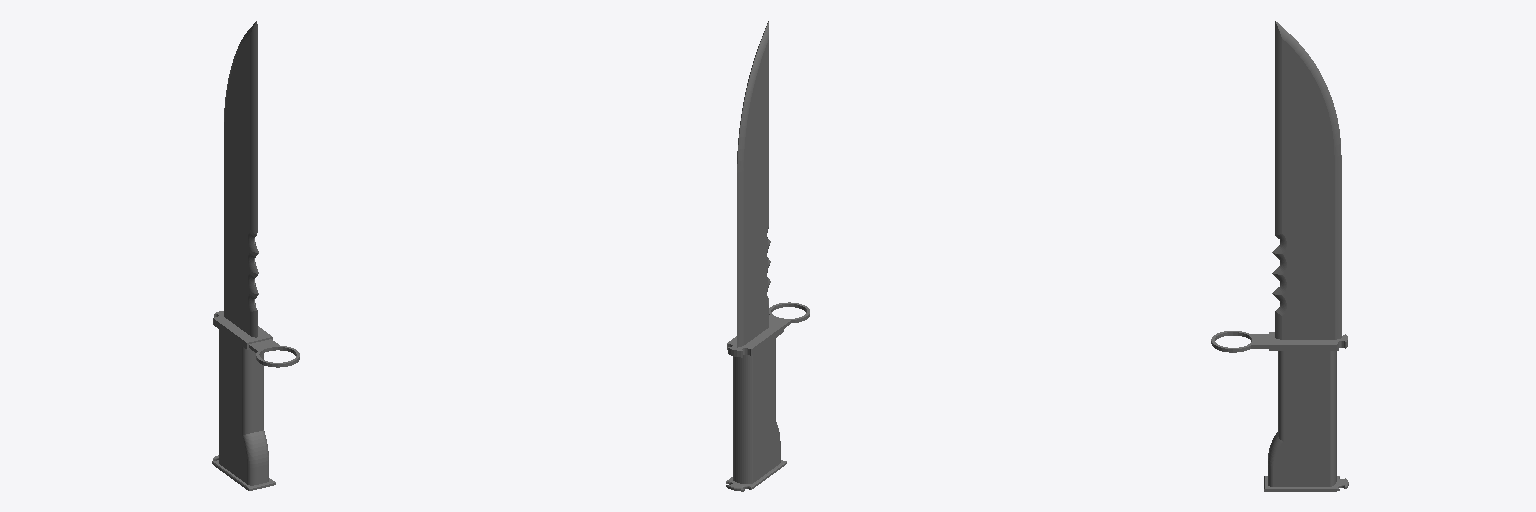
URDF robot description (object):
<?xml version="1.0"?>
<robot name="object">
  <link name="object">
    <visual>
      <origin xyz="0 0 0"/>
      <geometry>
        <mesh
          filename="../../mesh/oakink_virtual/knife_s136.stl" />
      </geometry>
      <material name="mat">
        <color rgba="0.5 0.5 0.5 1"/>
      </material>
    </visual>

    <collision>
      <origin xyz="0 0 0"/>
      <geometry>
        <mesh
          filename="../../mesh/oakink_virtual/knife_s136.stl" />
      </geometry>
    </collision>
  </link>
</robot>

--- Render facts (derived) ---
3 views of the same robot in one strip: view 1: azimuth 30°, elevation 25°; view 2: azimuth 150°, elevation 25°; view 3: azimuth 270°, elevation 25° (orthographic).
Model object with 1 links and 0 joints (none), rooted at object, posed every joint at zero.
Links seen in each view (by area): view 1: object; view 2: object; view 3: object.
Link boxes in pixels (left/top/right/bottom): object: left=212, top=21, right=299, bottom=490; object: left=726, top=21, right=809, bottom=491; object: left=1211, top=21, right=1348, bottom=491.
Size in the robot's own frame: 0.019 by 0.0593 by 0.2207 metres.
1 mesh visuals loaded from 1 distinct referenced files (1 binary STL).